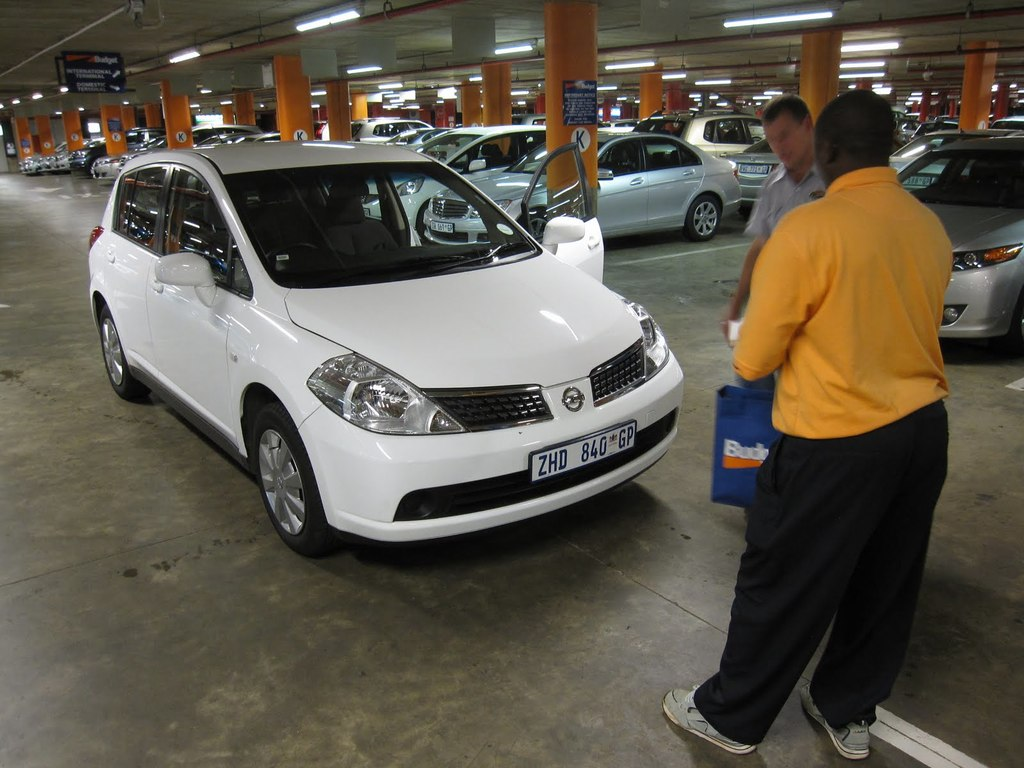car: (68, 101, 693, 601), (414, 107, 759, 264), (875, 119, 1024, 349)
